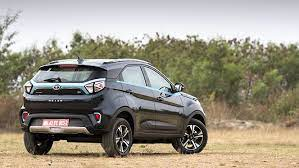Tata Nexon: (17, 54, 210, 161)
